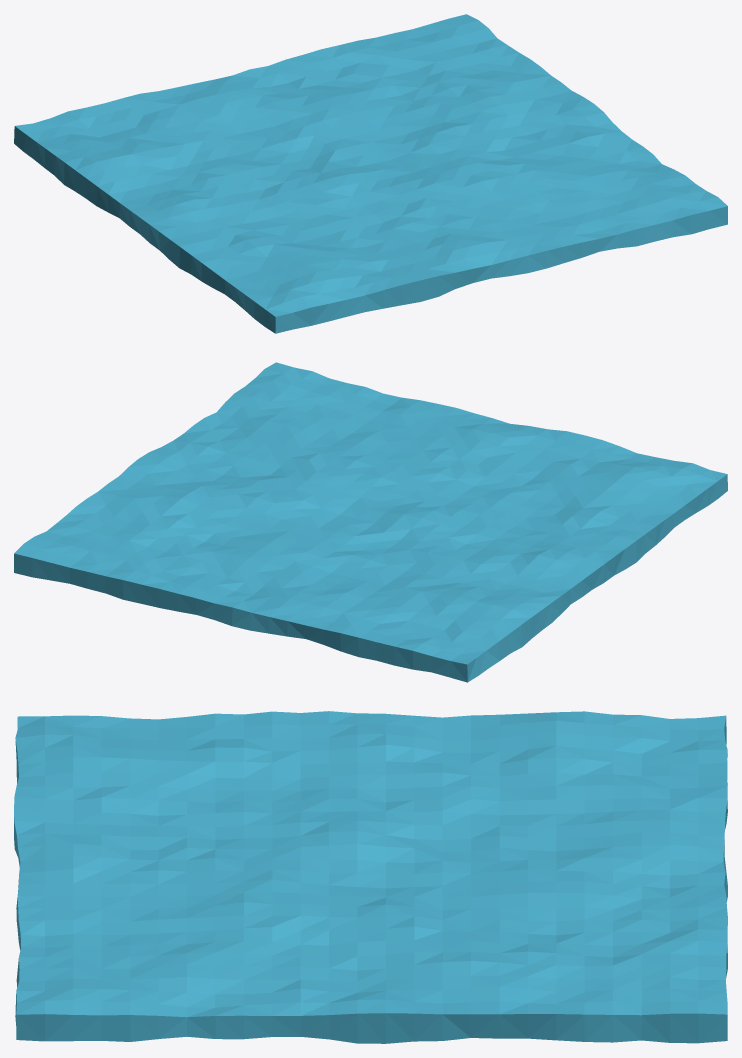
The model's file is Mar.fbx.
3 renders of one model, top to bottom at view 1: azimuth 30°, elevation 25°; view 2: azimuth 150°, elevation 25°; view 3: azimuth 270°, elevation 25°, orthographic. The views are drawn at different scales.
Visible parts, largest first — view 1: Agua_LowPoly; view 2: Agua_LowPoly; view 3: Agua_LowPoly.
Boxes of the visible parts, x1,y1,x2,y2 form: Agua_LowPoly: [14, 14, 727, 333]; Agua_LowPoly: [14, 362, 727, 682]; Agua_LowPoly: [14, 711, 727, 1043].
Bounding box in the file's own units: 2607 × 148 × 2594.
